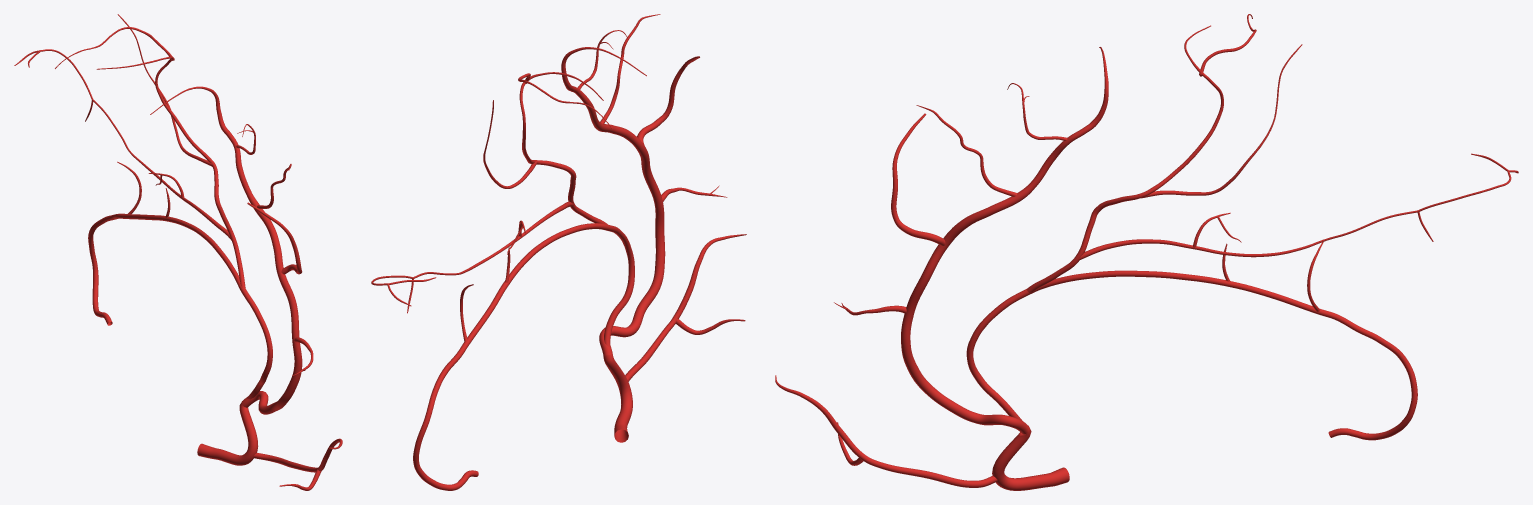
Rendered from circulatorio-anterior-cerebral-artery-r.glb.
3 views of the same model, side by side, from view 1: azimuth 30°, elevation 25°; view 2: azimuth 150°, elevation 25°; view 3: azimuth 270°, elevation 25° (orthographic). The views are drawn at different scales.
Visible parts, largest first — view 1: Pericallosal artery.r, Callosomarginal artery.r, Anterior cerebral artery.r, Orbitofrontal branches of anterior cerebral artery.r, Frontal branches of callosomarginal artery.r; view 2: Pericallosal artery.r, Callosomarginal artery.r, Orbitofrontal branches of anterior cerebral artery.r, Anterior cerebral artery.r, Frontal branches of callosomarginal artery.r; view 3: Pericallosal artery.r, Callosomarginal artery.r, Orbitofrontal branches of anterior cerebral artery.r, Anterior cerebral artery.r, Frontal branches of callosomarginal artery.r.
Boxes of the visible parts, x1=… form: Pericallosal artery.r: x1=14, y1=14, x2=272, y2=399; Callosomarginal artery.r: x1=150, y1=86, x2=313, y2=414; Anterior cerebral artery.r: x1=197, y1=402, x2=258, y2=465; Orbitofrontal branches of anterior cerebral artery.r: x1=253, y1=438, x2=342, y2=490; Frontal branches of callosomarginal artery.r: x1=247, y1=202, x2=302, y2=274; Pericallosal artery.r: x1=371, y1=72, x2=634, y2=490; Callosomarginal artery.r: x1=561, y1=14, x2=727, y2=356; Orbitofrontal branches of anterior cerebral artery.r: x1=625, y1=234, x2=746, y2=381; Anterior cerebral artery.r: x1=603, y1=354, x2=632, y2=442; Frontal branches of callosomarginal artery.r: x1=637, y1=56, x2=699, y2=145; Pericallosal artery.r: x1=966, y1=14, x2=1518, y2=440; Callosomarginal artery.r: x1=834, y1=47, x2=1108, y2=434; Orbitofrontal branches of anterior cerebral artery.r: x1=775, y1=375, x2=997, y2=487; Anterior cerebral artery.r: x1=992, y1=428, x2=1069, y2=490; Frontal branches of callosomarginal artery.r: x1=891, y1=113, x2=945, y2=245.
Size of the model in its own units: 0.0312 by 0.0961 by 0.1433.
